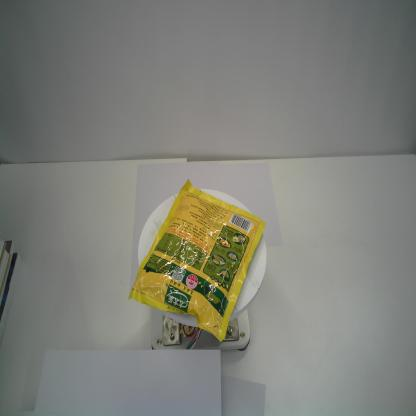Seasoner: (126, 177, 267, 344)
